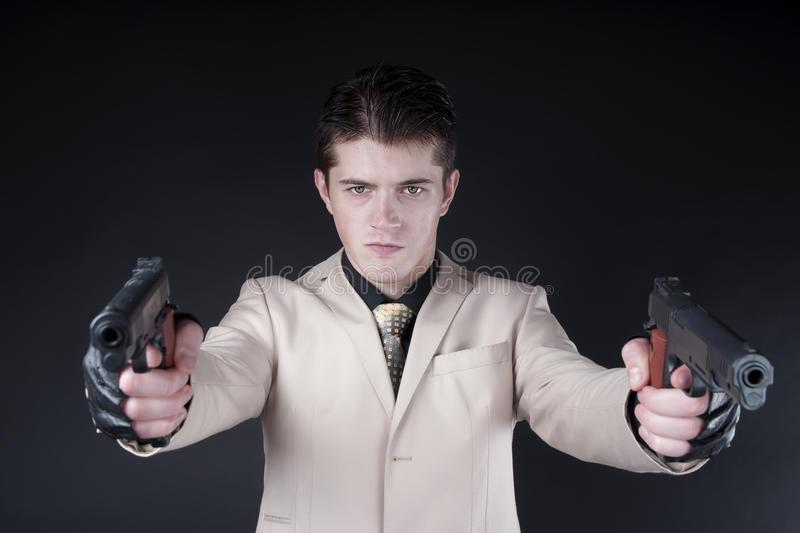criminal: (85, 67, 777, 533)
weapon: (636, 271, 777, 413), (86, 252, 180, 378)
